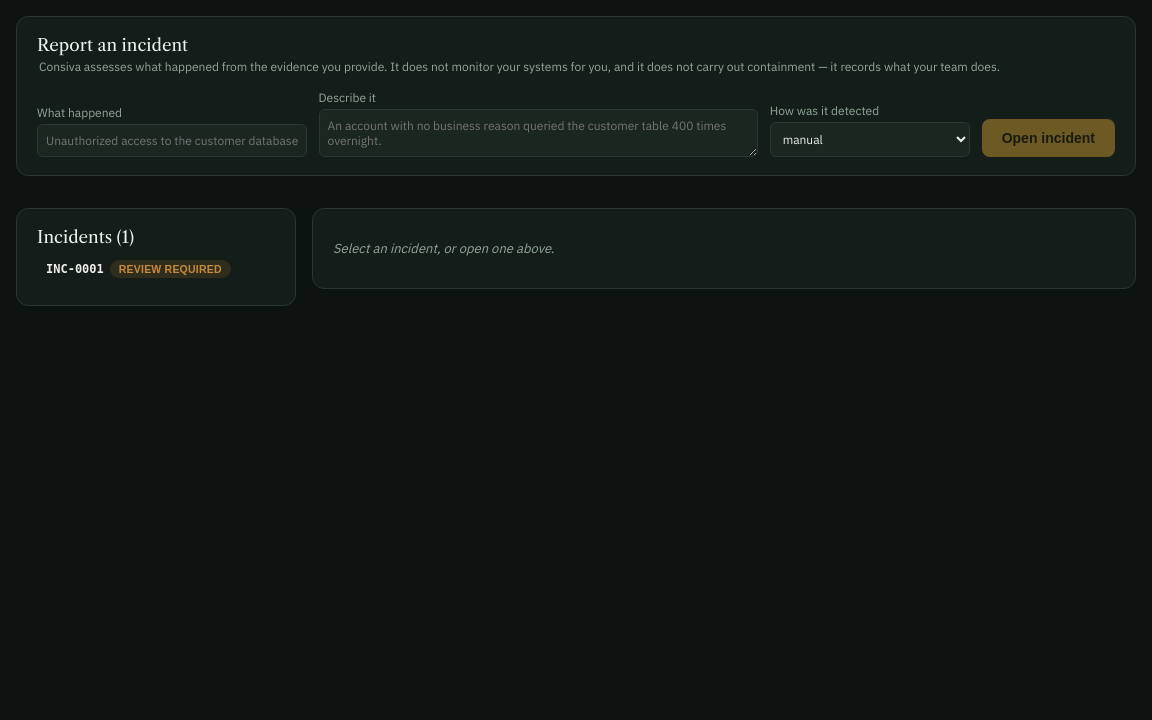
Test: BreachConsole: duplicate analysis submissions › leaves Run analysis enabled once analysis is not running
Click the button "INC-0001 review required". click: (156, 269)
box: 37,251 -> 275,287
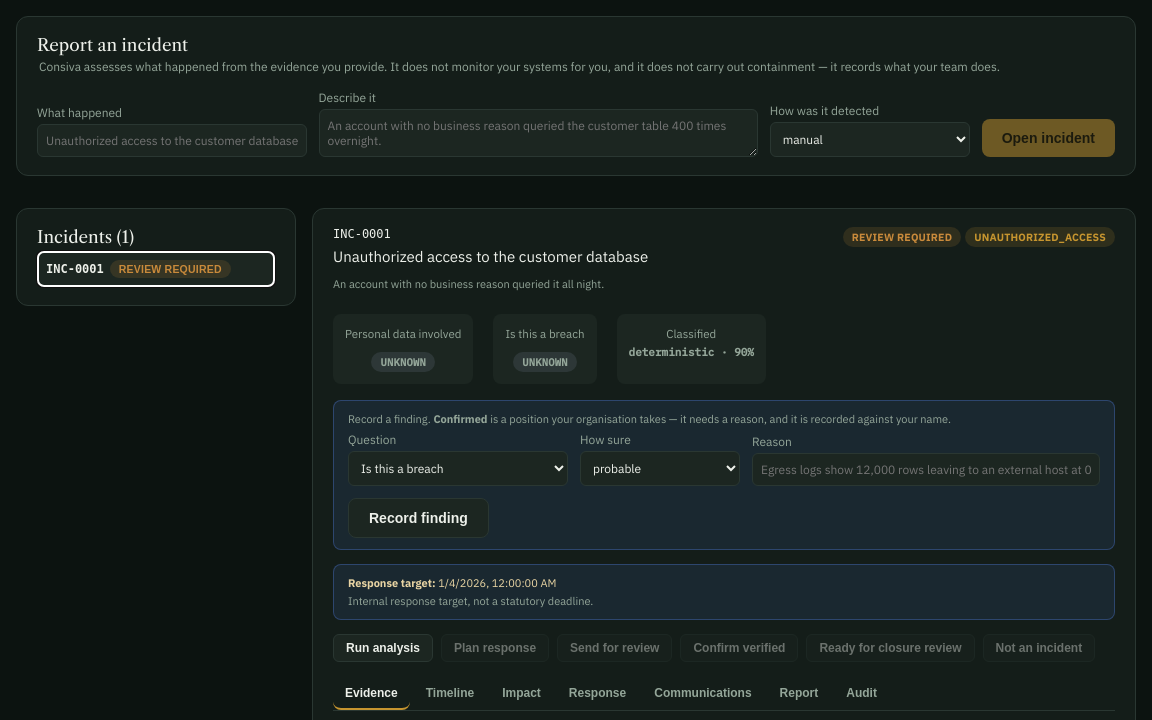
Expected: the button "Run analysis" is enabled, 333,634 -> 433,662
